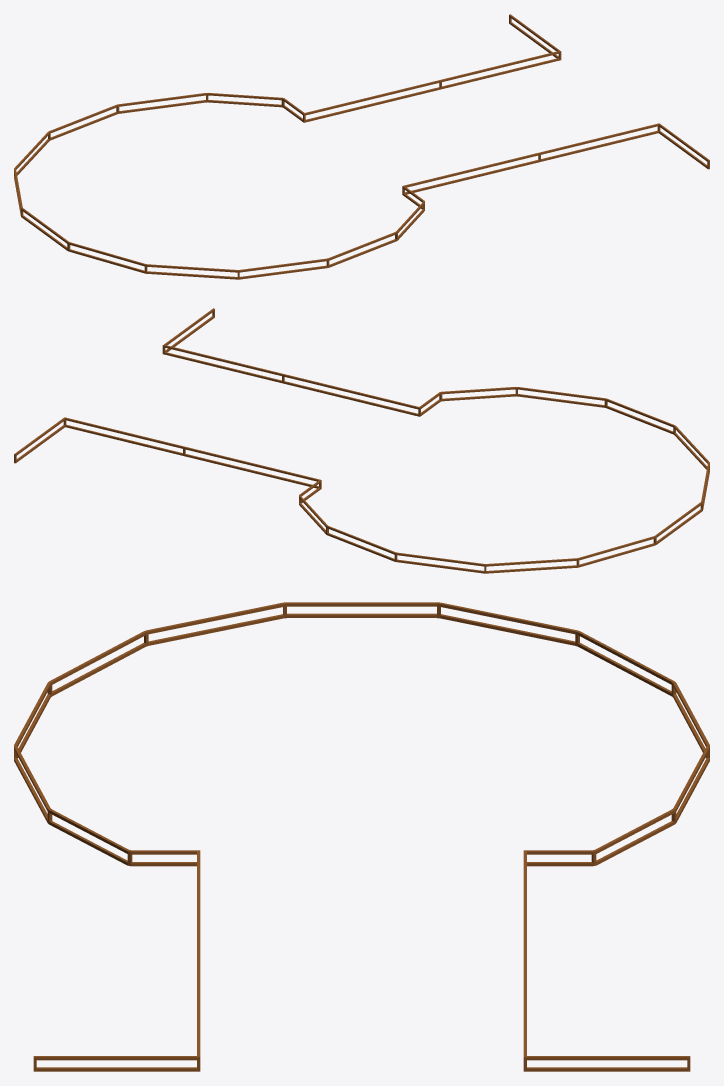
The model's file is 06_BarandalDomo.fbx.
The picture shows the model from 3 angles, top to bottom: view 1: azimuth 30°, elevation 25°; view 2: azimuth 150°, elevation 25°; view 3: azimuth 270°, elevation 25°; orthographic projection. The views are drawn at different scales.
Visible parts, largest first — view 1: BarandalDomo; view 2: BarandalDomo; view 3: BarandalDomo.
Part boxes in pixels (<box>): BarandalDomo: <box>14,14,709,279</box>; BarandalDomo: <box>14,308,709,573</box>; BarandalDomo: <box>14,602,709,1071</box>.
Bounding box in the file's own units: 5901 × 87.69 × 3815.
